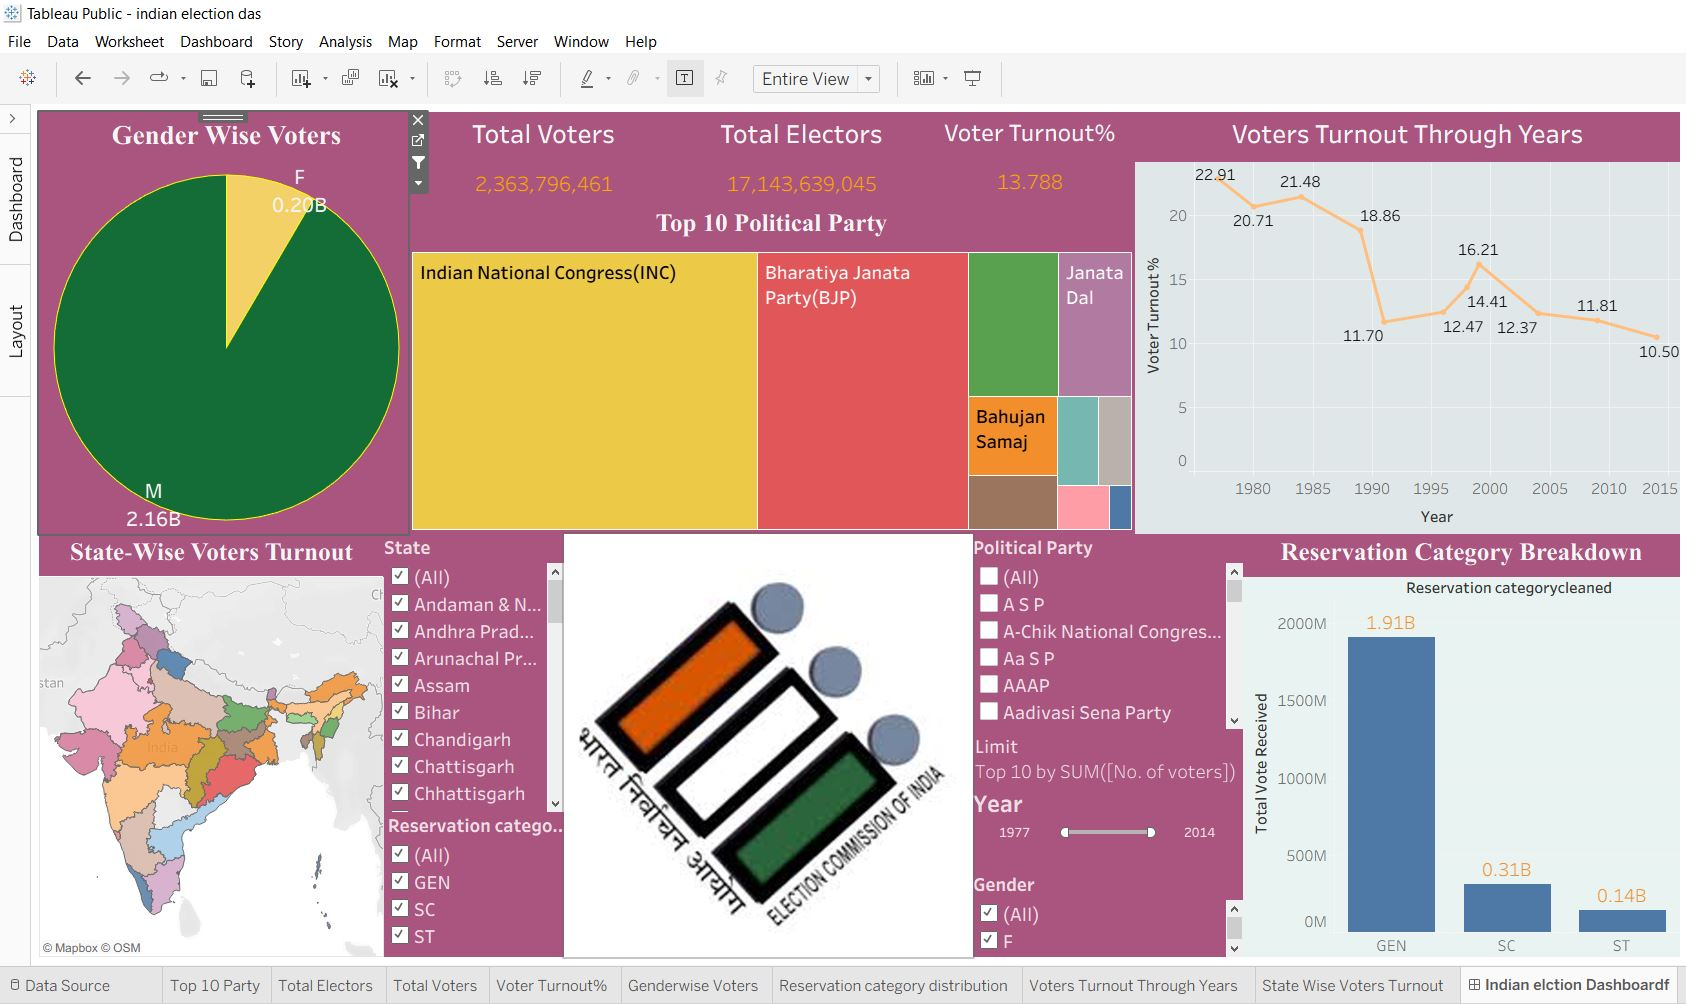

This screenshot's page, from the dashboard's own definition file:
{"tool":"tableau","page":{"name":"Indian elction Dashboardf","canvas":[1657,861],"ordinal":0},"visuals":[{"type":"worksheet","title":"Genderwise Voters","mark":"Pie","box":[8,8,368.8,422]},{"type":"worksheet","title":"Total Voters","mark":"Automatic","box":[376.9,8,271.4,93]},{"type":"worksheet","title":"Total Electors","mark":"Automatic","box":[648.3,8,244.8,93]},{"type":"worksheet","title":"Voter Turnout%","mark":"Automatic","box":[893,8,211,93]},{"type":"worksheet","title":"Voters Turnout Through Years","mark":"Line","rows":["Calculation_1189955709755392"],"cols":["year"],"box":[1104,8,545,422]},{"type":"worksheet","title":"Top 10 Party","mark":"Automatic","box":[376.9,101,727.1,329]},{"type":"worksheet","title":"State Wise Voters Turnout","mark":"Multipolygon","box":[8,430,344.7,423]},{"type":"filter","title":"Top 10 Party","param":"[federated.1jyi0w21k7mfus184vbw60uprwd3].[none:State:nk]","box":[352.7,430,180.2,278]},{"type":"image","param":"C:/Users/HP/Desktop/election commision.jpg","box":[533,430,408.7,423]},{"type":"filter","title":"Top 10 Party","param":"[federated.1jyi0w21k7mfus184vbw60uprwd3].[Partyname (group) 1]","box":[941.7,430,270.3,253]},{"type":"worksheet","title":"Reservation category distribution","mark":"Automatic","rows":["total_vote_received"],"box":[1212,430,437,423]},{"type":"filter","title":"Top 10 Party","param":"[federated.1jyi0w21k7mfus184vbw60uprwd3].[none:year:qk]","box":[941.7,683,270.3,84]},{"type":"filter","title":"Top 10 Party","param":"[federated.1jyi0w21k7mfus184vbw60uprwd3].[Constituency reservation status (group","box":[352.7,708,180.2,145]},{"type":"filter","title":"Top 10 Party","param":"[federated.1jyi0w21k7mfus184vbw60uprwd3].[none:Gender:nk]","box":[941.7,767,270.3,86]}]}

Visuals, with their boxes in screenshot pixels (x1, y1, x2, y2):
"Genderwise Voters" worksheet (Pie marks): 34, 109, 404, 532
"Total Voters" worksheet: 405, 109, 677, 202
"Total Electors" worksheet: 677, 109, 923, 202
"Voter Turnout%" worksheet: 922, 109, 1134, 202
"Voters Turnout Through Years" worksheet (Line marks): 1134, 109, 1681, 532
"Top 10 Party" worksheet: 405, 202, 1134, 532
"State Wise Voters Turnout" worksheet (Multipolygon marks): 34, 532, 380, 957
"Top 10 Party" filter: 380, 532, 561, 811
image: 561, 532, 971, 957
"Top 10 Party" filter: 971, 532, 1243, 786
"Reservation category distribution" worksheet: 1243, 532, 1681, 957
"Top 10 Party" filter: 971, 786, 1243, 871
"Top 10 Party" filter: 380, 811, 561, 957
"Top 10 Party" filter: 971, 871, 1243, 957
